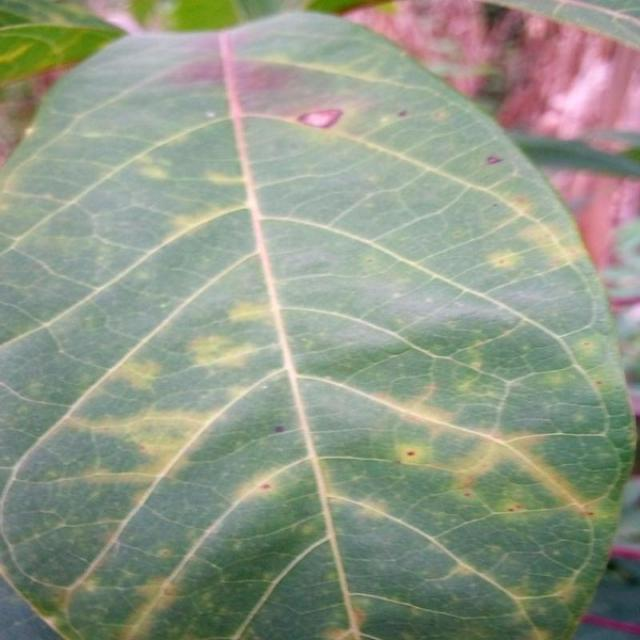cassava leaf: (1, 8, 636, 638)
